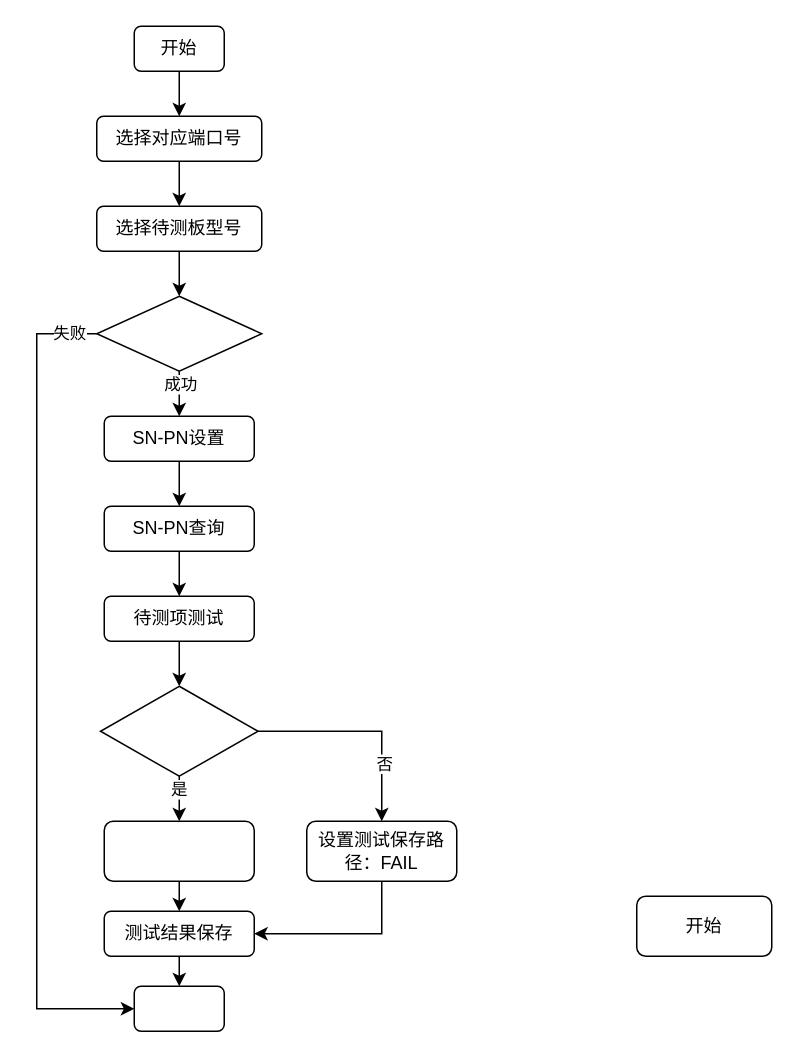
Some shapes in this 798 by 1058 pixel diagram are drawn without their labels. The box of each missing label's shape, as (x1, y1, x2, y2) in pixels:
测试是否通过: (99, 685, 258, 776)
结束: (133, 985, 224, 1031)
设置测试保存路径：PASS: (103, 820, 254, 881)
连接串口: (95, 295, 262, 371)
